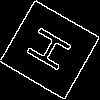H: (25, 24, 82, 78)
